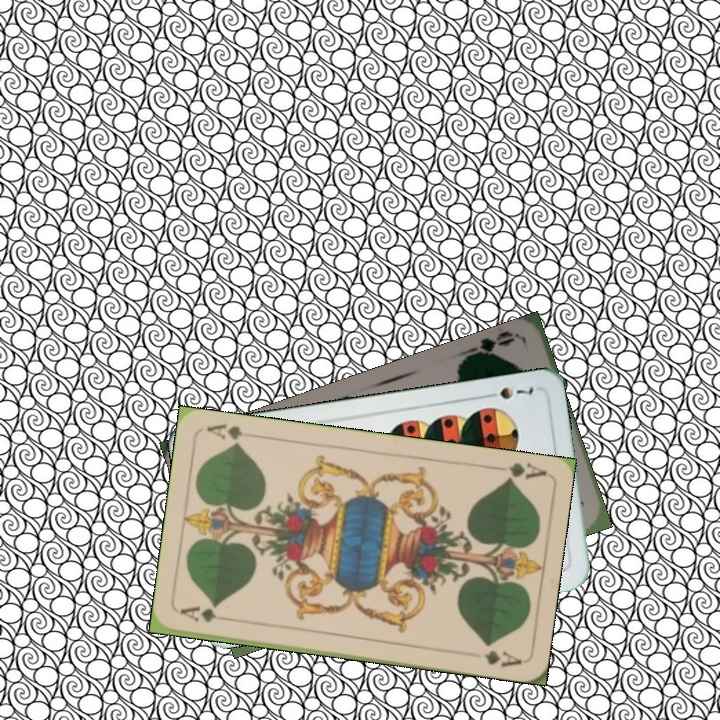GA: (488, 458, 548, 485), (177, 602, 235, 625)
GO: (460, 328, 518, 363)
S7: (479, 381, 536, 402)
